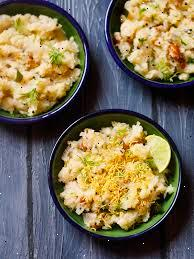upma: (53, 124, 178, 233), (1, 13, 75, 113), (113, 0, 194, 82)
